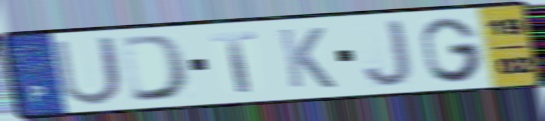D: (118, 32, 194, 104)
G: (418, 14, 487, 84)
J: (361, 17, 416, 89)
K: (275, 25, 339, 91)
T: (207, 29, 260, 94)
U: (50, 33, 127, 108)
